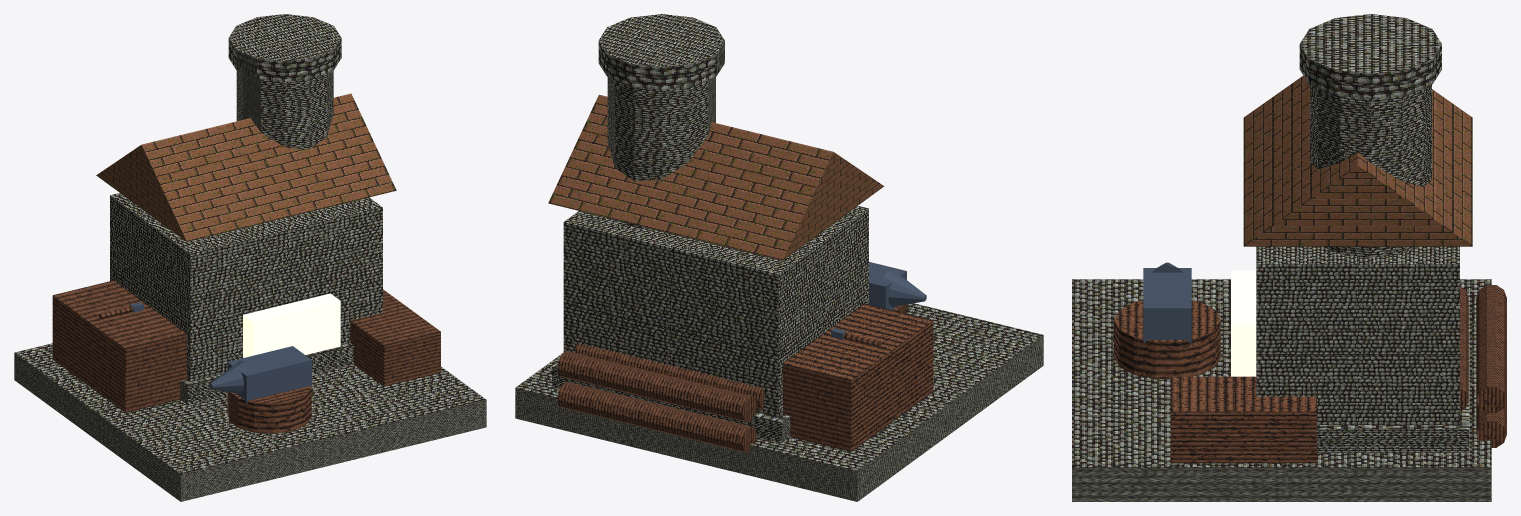
File: forja_corteza.glb
3 views of the same model, side by side, from view 1: azimuth 30°, elevation 25°; view 2: azimuth 150°, elevation 25°; view 3: azimuth 270°, elevation 25° (orthographic). The views are drawn at different scales.
Visible parts, largest first — view 1: Cube, Cube.001, Forja_Techo, Cube.007, Cylinder.001, Cube.005, Cylinder, Cube.003, Cylinder.002, Cube.004, Cube.002, Cone; view 2: Cube.001, Forja_Techo, Cube, Cube.007, Cylinder, Cylinder.001, Cylinder.007, Cylinder.005, Cylinder.006, Cube.002, Cone, Cube.004; view 3: Cube, Cube.001, Forja_Techo, Cube.005, Cylinder.001, Cylinder, Cylinder.002, Cube.002, Cylinder.007, Cube.004, Cube.003, Cylinder.006 (+1 smaller).
Part boxes in pixels (<box>): Cube: <box>14,343,486,501</box>; Cube.001: <box>110,193,382,381</box>; Forja_Techo: <box>96,93,396,241</box>; Cube.007: <box>52,280,186,412</box>; Cylinder.001: <box>228,14,341,81</box>; Cube.005: <box>350,289,440,386</box>; Cylinder: <box>236,70,333,149</box>; Cube.003: <box>243,293,340,357</box>; Cylinder.002: <box>227,385,311,433</box>; Cube.004: <box>227,346,311,403</box>; Cube.002: <box>180,343,353,404</box>; Cone: <box>209,360,250,394</box>; Cube.001: <box>563,206,868,417</box>; Forja_Techo: <box>548,94,883,260</box>; Cube: <box>515,303,1043,501</box>; Cube.007: <box>783,304,933,451</box>; Cylinder: <box>607,77,715,229</box>; Cylinder.001: <box>598,14,724,89</box>; Cylinder.007: <box>557,350,756,422</box>; Cylinder.005: <box>557,381,756,452</box>; Cylinder.006: <box>575,343,763,409</box>; Cube.002: <box>552,361,790,442</box>; Cone: <box>881,269,926,306</box>; Cube.004: <box>869,262,906,310</box>; Cube: <box>1072,279,1491,501</box>; Cube.001: <box>1256,246,1459,424</box>; Forja_Techo: <box>1243,75,1472,246</box>; Cube.005: <box>1170,376,1316,463</box>; Cylinder.001: <box>1299,14,1441,99</box>; Cylinder: <box>1310,85,1431,257</box>; Cylinder.002: <box>1114,300,1220,379</box>; Cube.002: <box>1317,303,1469,452</box>; Cylinder.007: <box>1476,285,1506,413</box>; Cube.004: <box>1143,268,1191,342</box>; Cube.003: <box>1231,270,1256,376</box>; Cylinder.006: <box>1460,286,1468,411</box>.
Bounding box in the file's own units: 3.5 × 3.53 × 3.42.
Materials: 6 (3 with a texture image).
